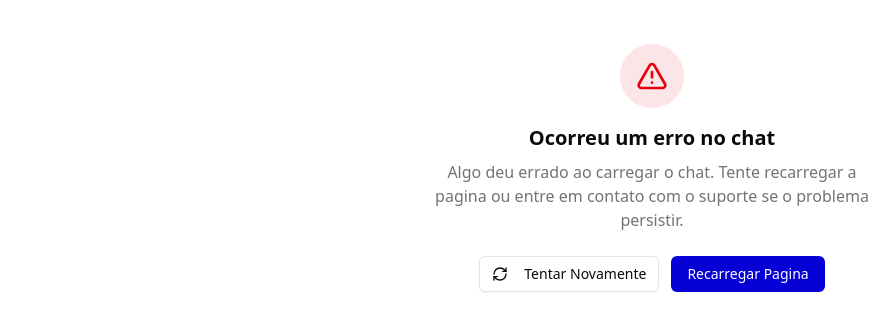
Test: ChatErrorBoundary - Error Boundary do Chat › Captura de Erros › deve recuperar de erro com botao retry
This screenshot has width=885, height=309.
Expected: the heading "Ocorreu um erro no chat" is shown, x1=529 y1=124 x2=775 y2=152
// Clicar no botao "Tentar Novamente" para resetar o error boundary
Click the button "Tentar Novamente" at coordinates (569, 274), box x1=479 y1=256 x2=659 y2=292
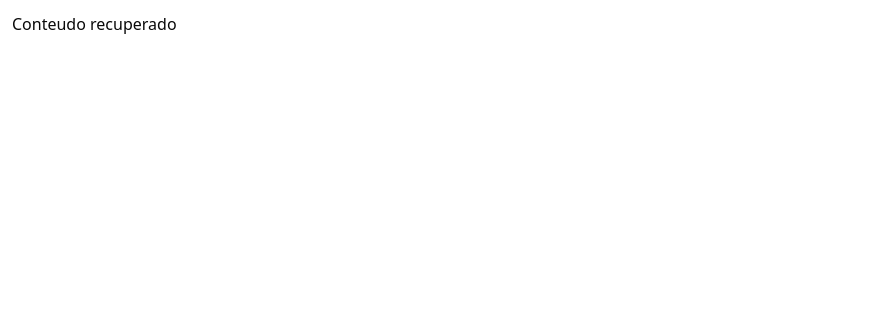
Expected: the text "Conteudo recuperado" is shown, x1=12 y1=13 x2=177 y2=35
Expected: the heading "Ocorreu um erro no chat" is gone
